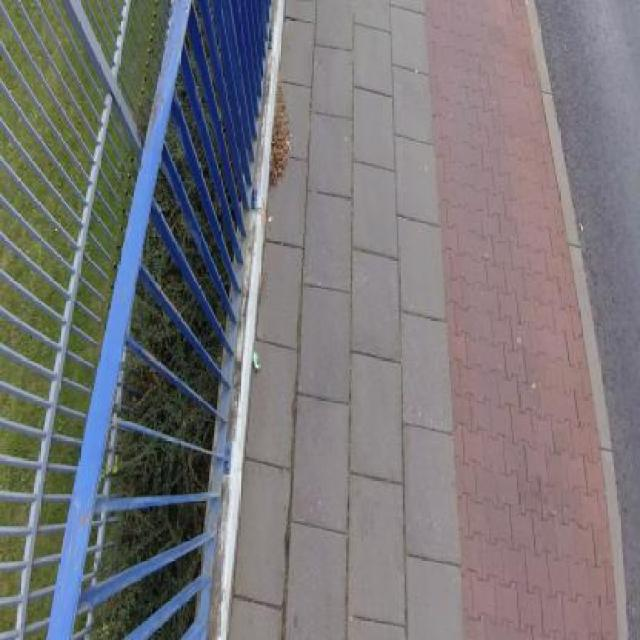Garbage: (252, 351, 260, 372)
